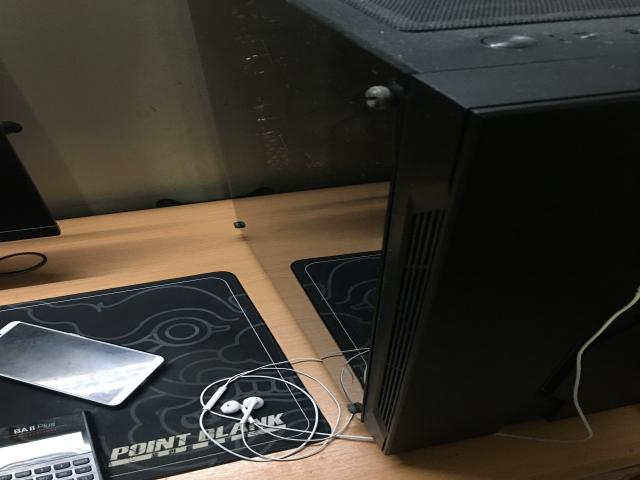Mobile phone: (0, 321, 163, 406)
wire: (220, 397, 265, 423)
